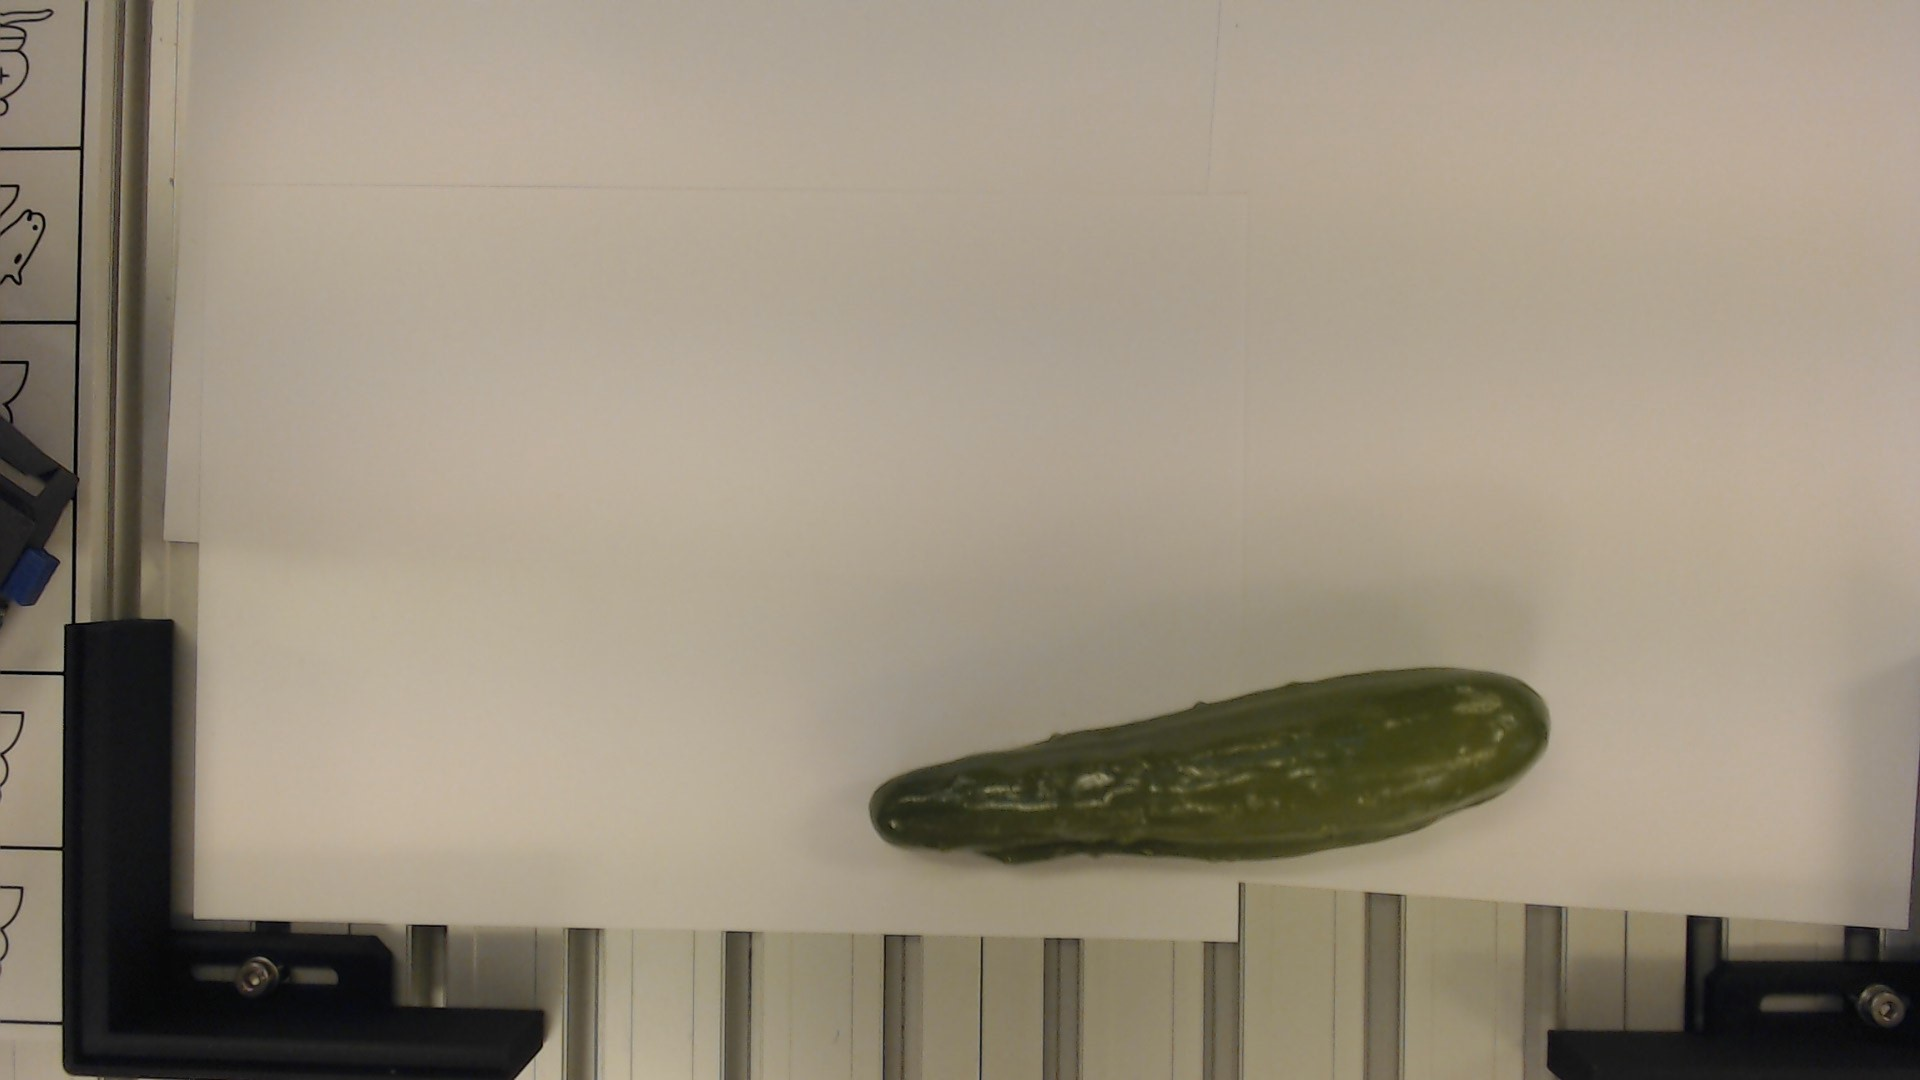Cucumber: (861, 667, 1556, 872)
